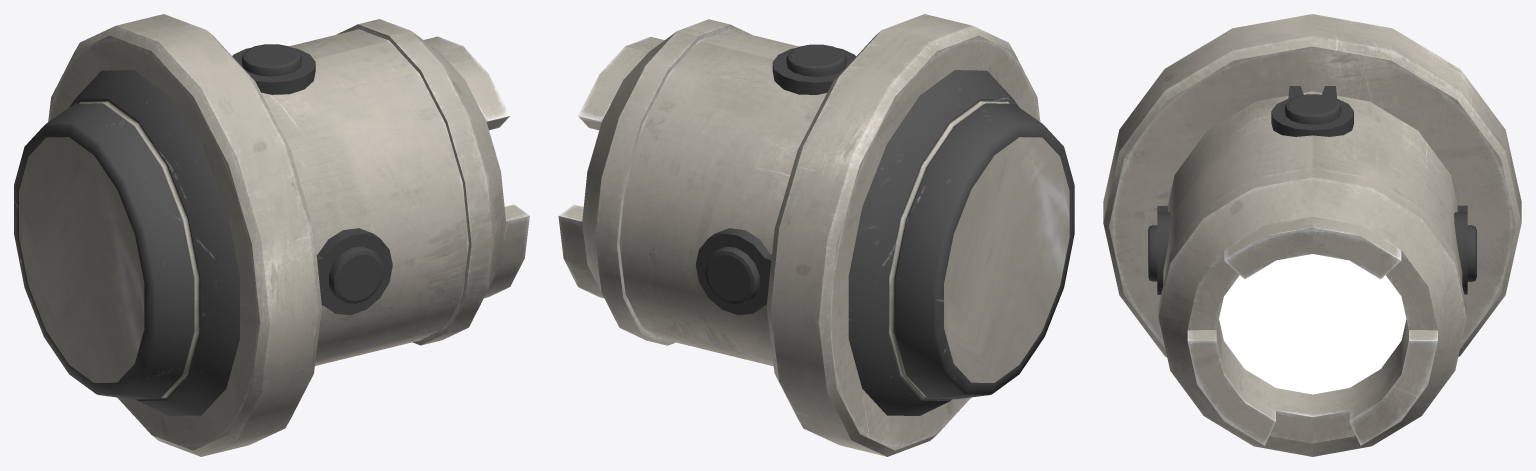
Rendered from guard_2_c_a.glb.
3 renders of one model, left to right at view 1: azimuth 30°, elevation 25°; view 2: azimuth 150°, elevation 25°; view 3: azimuth 270°, elevation 25°, orthographic. The views are drawn at different scales.
Parts seen in each view (by area): view 1: guard_2_c_a_lod0; view 2: guard_2_c_a_lod0; view 3: guard_2_c_a_lod0.
Boxes of the visible parts, left/top/right/bottom form: guard_2_c_a_lod0: left=14, top=14, right=529, bottom=456; guard_2_c_a_lod0: left=558, top=14, right=1074, bottom=456; guard_2_c_a_lod0: left=1103, top=14, right=1521, bottom=456.
Size of what is drawn, in the model's own units: 0.047 by 0.047 by 0.0475.
1 material, 1 textured.
